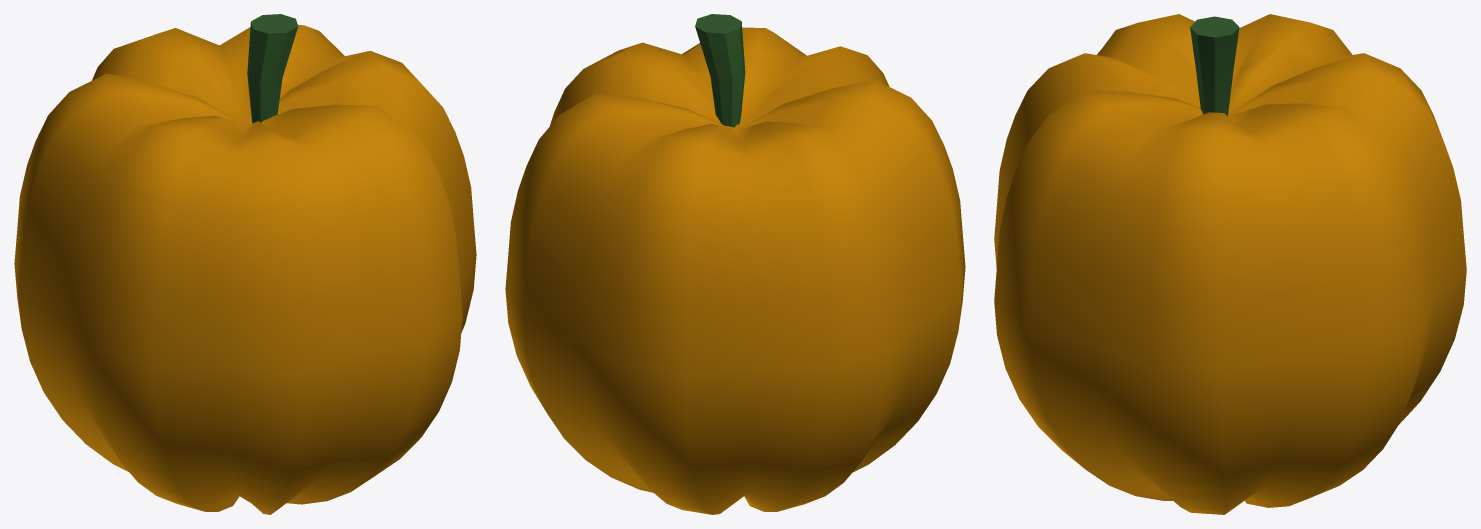
File: paprika1.fbx
3 renders of one model, left to right at view 1: azimuth 30°, elevation 25°; view 2: azimuth 150°, elevation 25°; view 3: azimuth 270°, elevation 25°, orthographic. The views are drawn at different scales.
Parts seen in each view (by area): view 1: pSphere44, pCylinder11; view 2: pSphere44, pCylinder11; view 3: pSphere44, pCylinder11.
Part boxes in pixels (x1=…): pSphere44: x1=14, y1=24, x2=476, y2=514; pCylinder11: x1=247, y1=14, x2=298, y2=123; pSphere44: x1=505, y1=27, x2=965, y2=514; pCylinder11: x1=695, y1=14, x2=745, y2=127; pSphere44: x1=994, y1=14, x2=1466, y2=514; pCylinder11: x1=1190, y1=16, x2=1239, y2=116.
Size of the model in its own units: 1.63 by 1.84 by 1.66.
